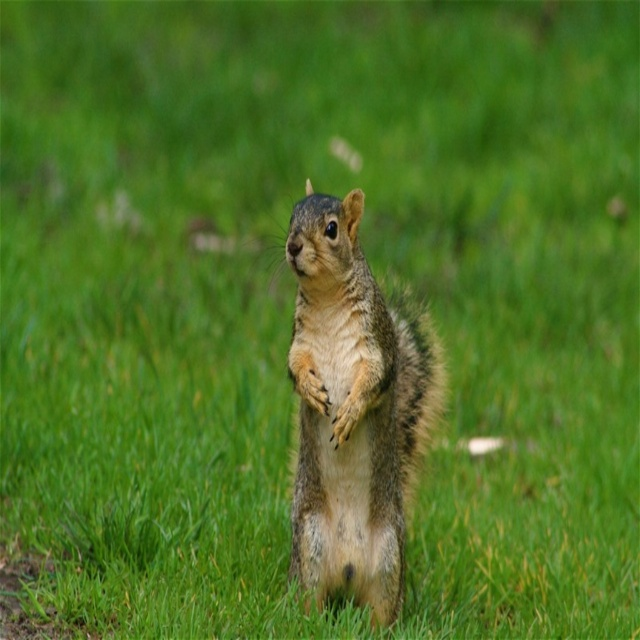Squirrel: (242, 178, 452, 639)
